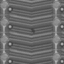dust: (30, 28, 35, 32)
